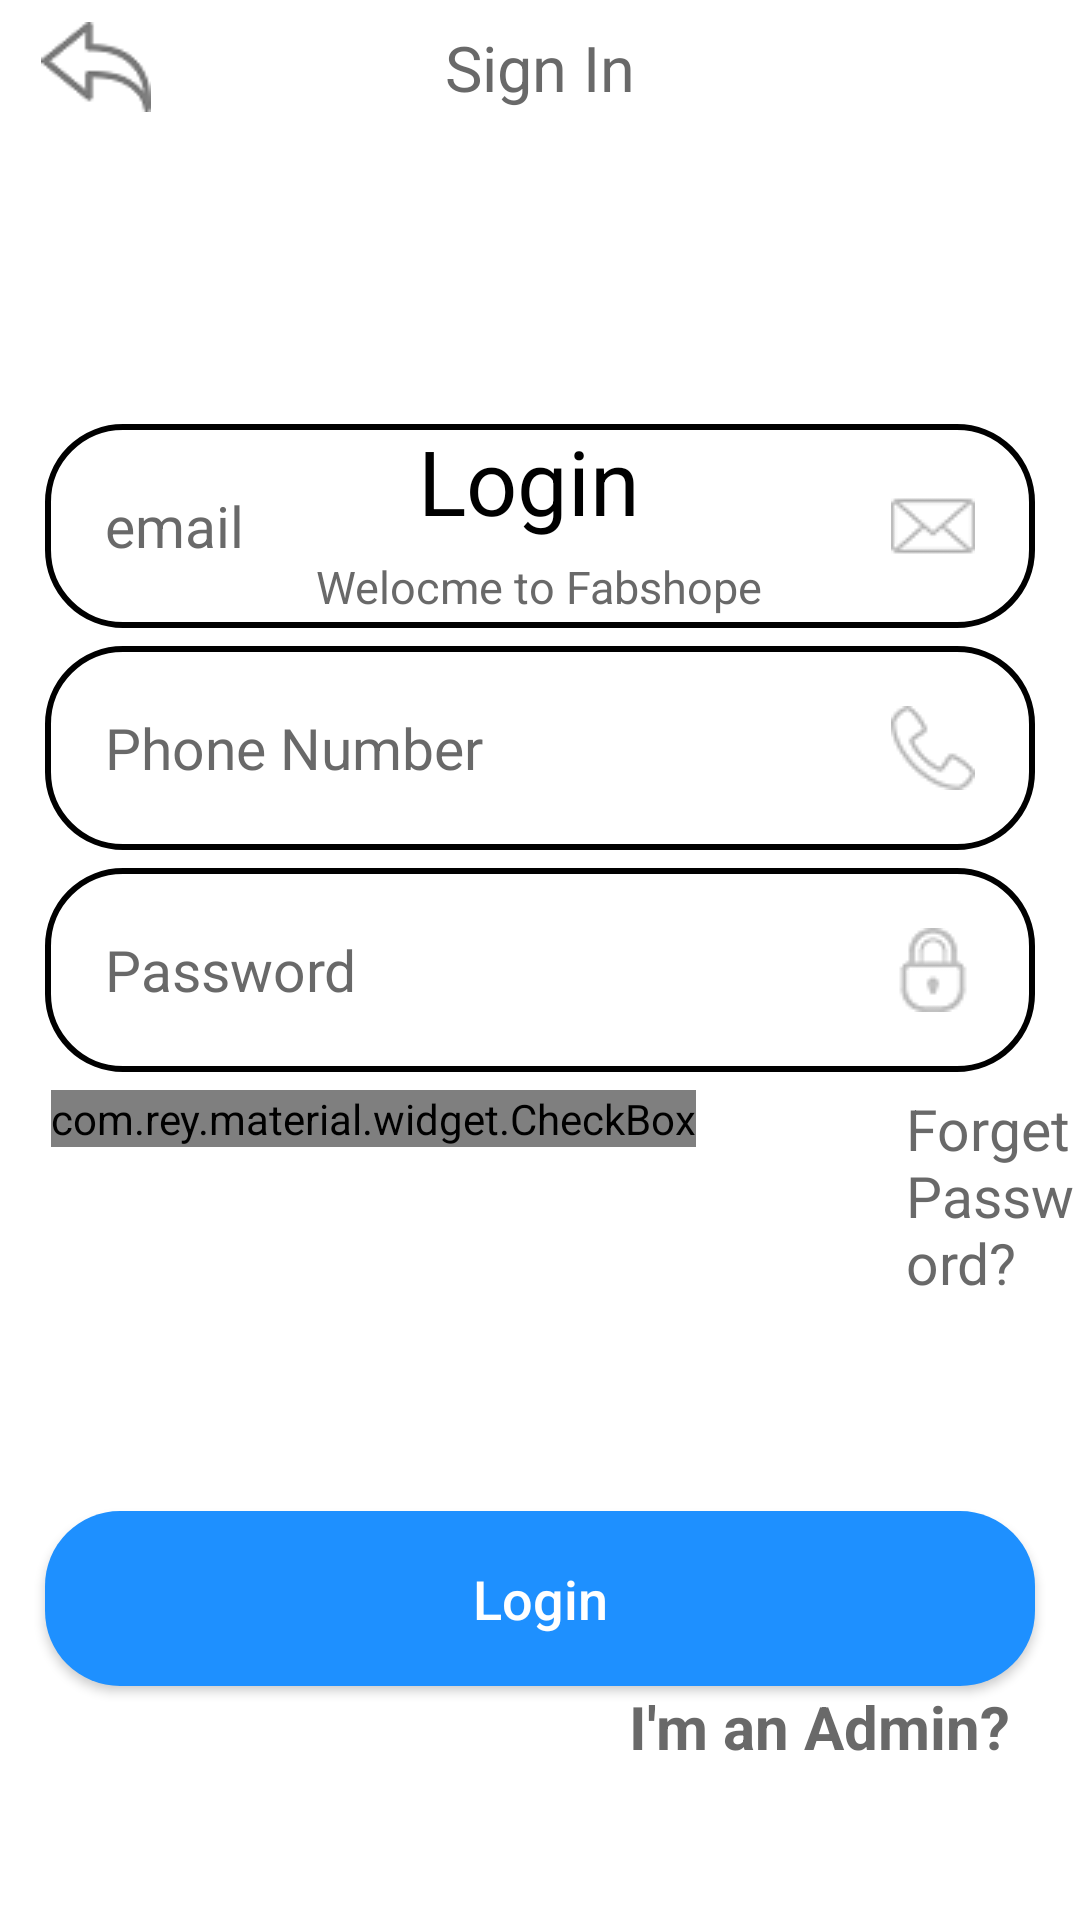

Icon bounding boxes for this 1080px x 1920px phone screenshot, format (x1, y1, x2, y2):
back: (41, 22, 151, 112)
